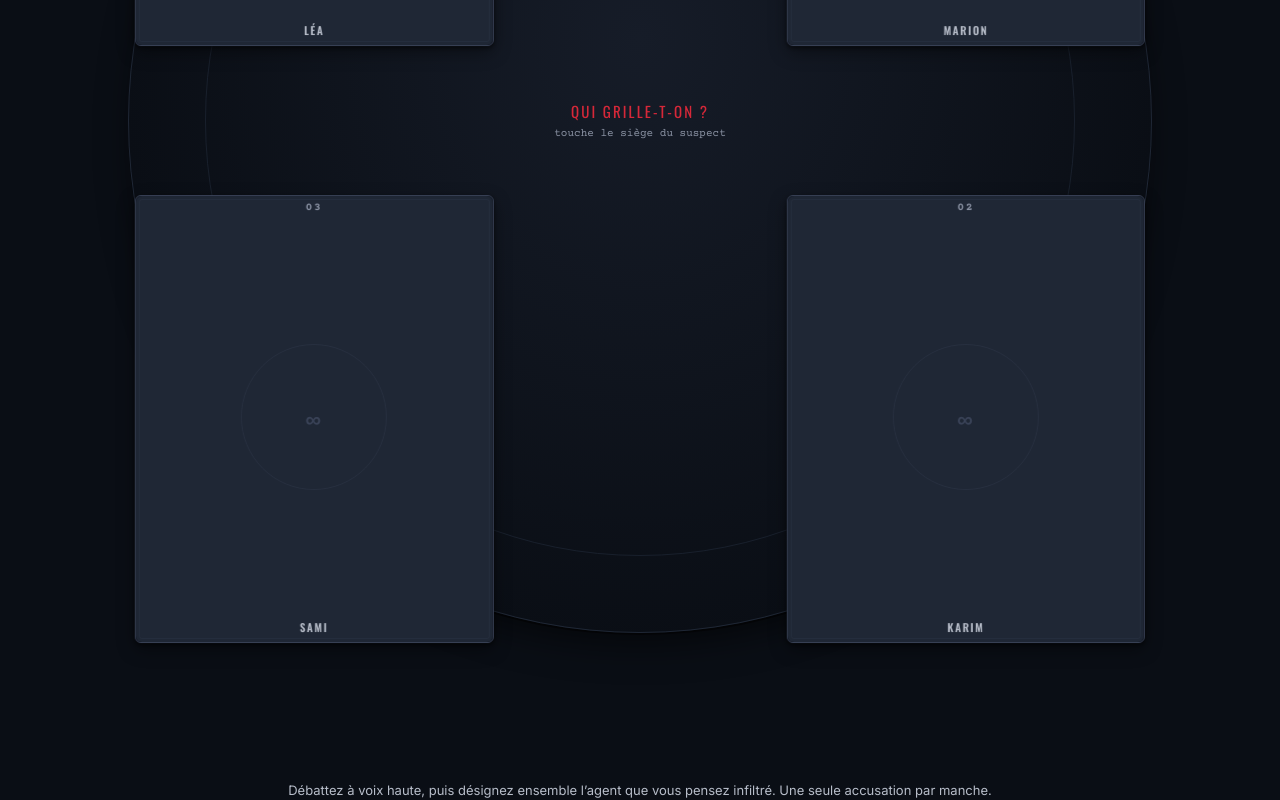
Scenario: VoteScreen › n’ouvre le modal de confirmation qu’après une accusation
(page scrolled)
Click the button "02 ∞ Karim 02 Karim".
click(966, 419)  # box [787,195,1145,643]
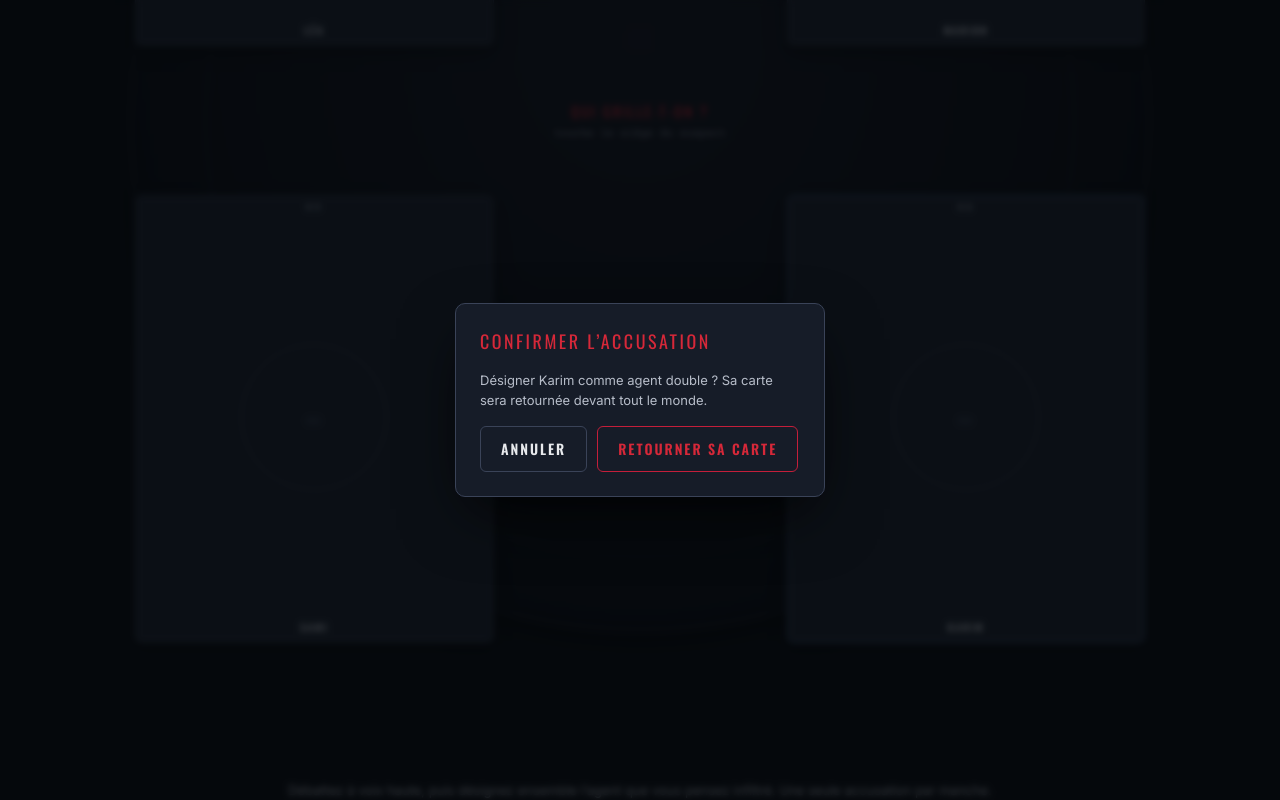
Result: the text "Désigner Karim comme agent double" is shown at [480,372,773,408]
